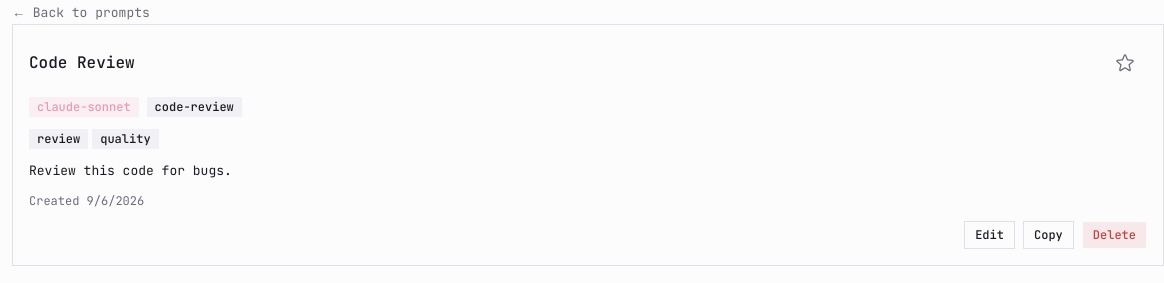
Test: PromptDetailPage › toggles favorite state when the favorite button is clicked
This screenshot has width=1164, height=283.
Click the button named "Add to favorites": [1125, 63] box left=1103, top=41, right=1147, bottom=85
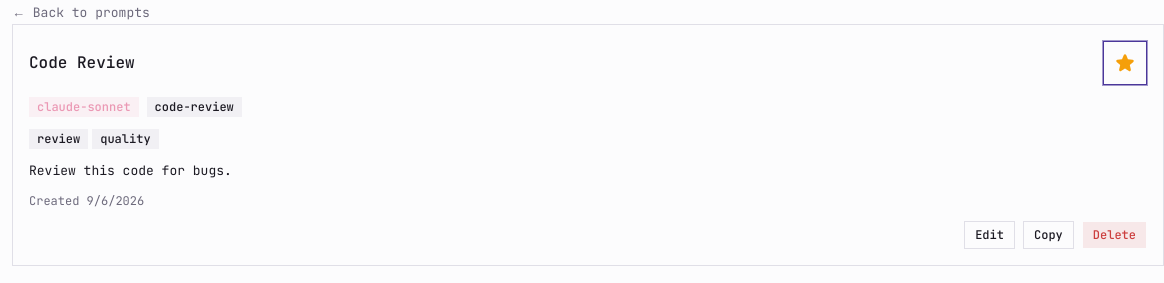
Expected: the button named "Remove from favorites" is shown, left=1103, top=41, right=1147, bottom=85
